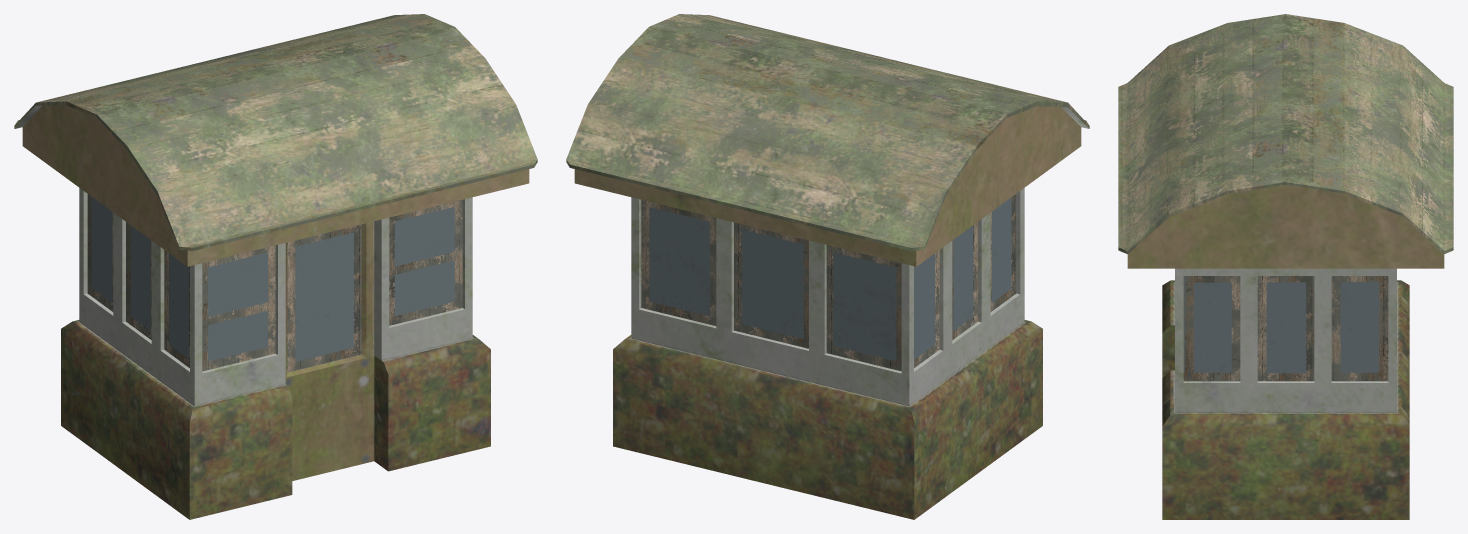
File: guardShelter.glb
3 views of the same model, side by side, from view 1: azimuth 30°, elevation 25°; view 2: azimuth 150°, elevation 25°; view 3: azimuth 270°, elevation 25° (orthographic). The views are drawn at different scales.
Parts seen in each view (by area): view 1: SM_GuardShelter; view 2: SM_GuardShelter; view 3: SM_GuardShelter.
Part boxes in pixels (left/top/right/bottom): SM_GuardShelter: left=14, top=14, right=537, bottom=519; SM_GuardShelter: left=566, top=14, right=1089, bottom=519; SM_GuardShelter: left=1118, top=14, right=1453, bottom=519.
Bounding box in the file's own units: 2.75 × 2.67 × 2.31.
2 materials, 2 textured.
